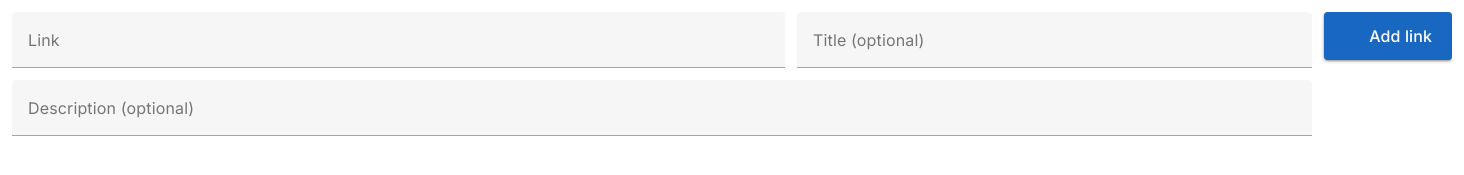
it: LinkForm › shows server field errors under the matching field
Step 1. Type "https://example.com/" into the field labelled "Link" → point(398, 40), box [12,12,785,68]
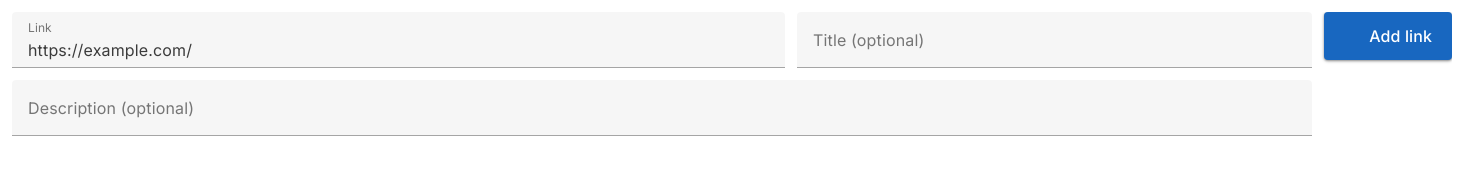
Step 2. Submit the form
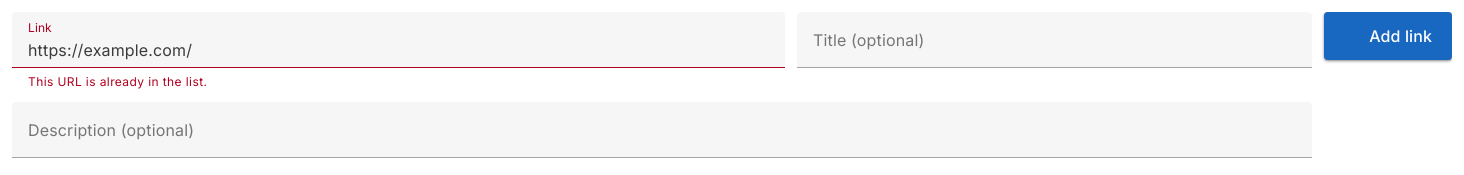
Check: the form shows "This URL is already in the list.", box [28,74,207,89]
